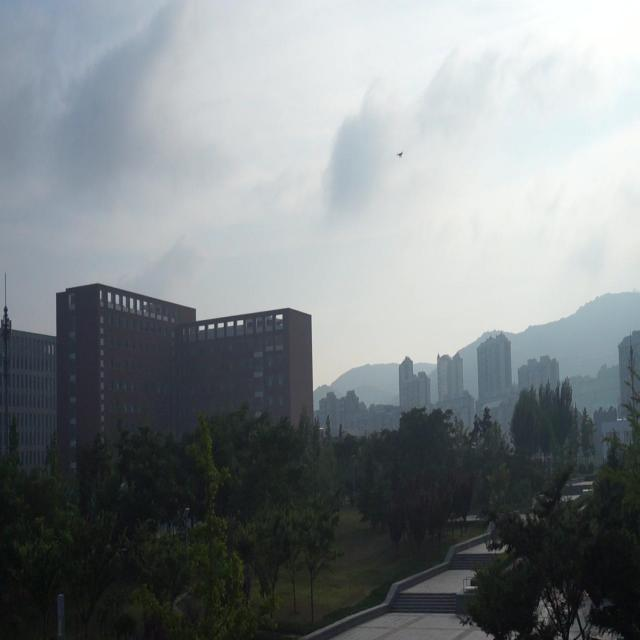UAV: (396, 151, 404, 158)
